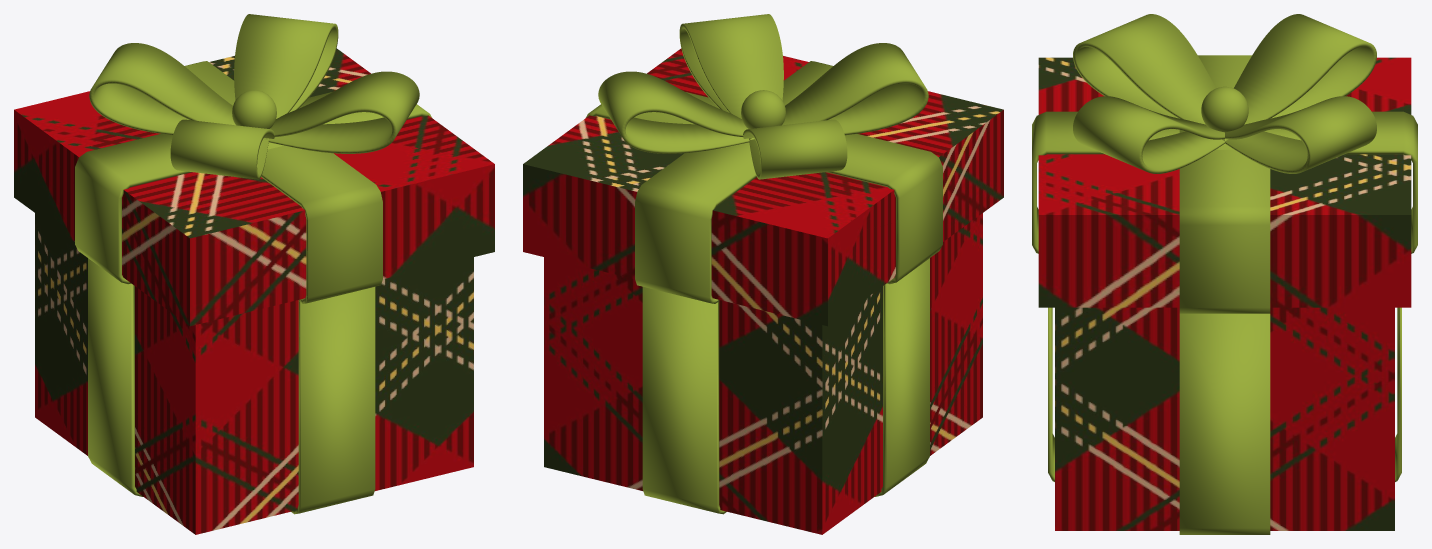
Rendered from medium2.fbx.
3 renders of one model, left to right at view 1: azimuth 30°, elevation 25°; view 2: azimuth 150°, elevation 25°; view 3: azimuth 270°, elevation 25°, orthographic. The views are drawn at different scales.
Parts seen in each view (by area): view 1: Cube, Cube.001, NURBSパス, 球; view 2: Cube, Cube.001, NURBSパス, 球; view 3: Cube, Cube.001, NURBSパス, 球.
Boxes of the visible parts, x1,y1,x2,y2 form: Cube: (14, 48, 494, 534); Cube.001: (75, 61, 431, 514); NURBSパス: (89, 14, 419, 179); 球: (232, 90, 276, 128); Cube: (523, 48, 1003, 534); Cube.001: (586, 61, 942, 514); NURBSパス: (598, 14, 928, 179); 球: (741, 90, 785, 128); Cube: (1038, 57, 1411, 530); Cube.001: (1032, 55, 1417, 534); NURBSパス: (1073, 14, 1376, 173); 球: (1201, 86, 1248, 132).
Bounding box in the file's own units: 63.46 × 71.64 × 63.46.
